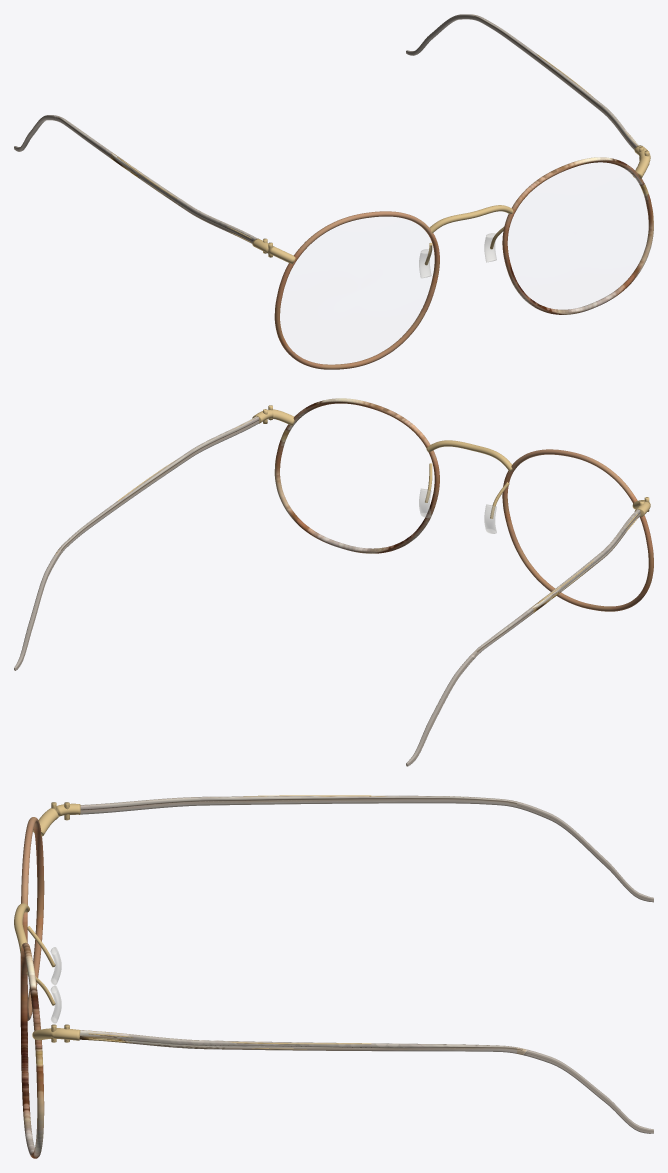
File: prod-1.glb
The picture shows the model from 3 angles, top to bottom: view 1: azimuth 30°, elevation 25°; view 2: azimuth 150°, elevation 25°; view 3: azimuth 270°, elevation 25°; orthographic projection. The views are drawn at different scales.
Visible parts, largest first — view 1: Fine metal full rim -1, Fine metal full rim 1, Fitted temple exterior -1, Fitted temple exterior 1, Saddle nose bridge; view 2: Fine metal full rim 1, Fine metal full rim -1, Fitted temple exterior 1, Fitted temple exterior -1, Saddle nose bridge; view 3: Fitted temple exterior -1, Fitted temple exterior 1, Fine metal full rim 1, Fine metal full rim -1, Reference hinge connection -1.
Part boxes in pixels (<box>): Fine metal full rim -1: <box>274,211,439,369</box>; Fine metal full rim 1: <box>502,157,653,314</box>; Fitted temple exterior -1: <box>14,115,257,243</box>; Fitted temple exterior 1: <box>406,14,638,150</box>; Saddle nose bridge: <box>429,205,513,232</box>; Fine metal full rim 1: <box>274,398,439,553</box>; Fine metal full rim -1: <box>502,449,653,611</box>; Fitted temple exterior 1: <box>14,416,259,670</box>; Fitted temple exterior -1: <box>406,509,640,766</box>; Saddle nose bridge: <box>426,440,512,471</box>; Fitted temple exterior -1: <box>70,795,653,902</box>; Fitted temple exterior 1: <box>79,1030,653,1133</box>; Fine metal full rim 1: <box>20,942,44,1158</box>; Fine metal full rim -1: <box>20,817,44,1020</box>; Reference hinge connection -1: <box>33,803,80,836</box>.
Size of the model in its own units: 0.1361 by 0.0467 by 0.1472.
Materials: 7 (3 with a texture image).
